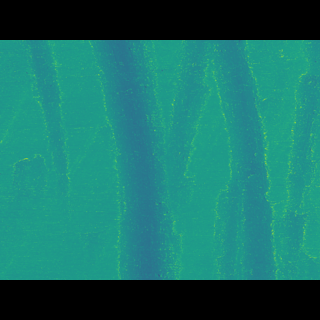Loch: (170, 69, 284, 250), (83, 69, 186, 249), (19, 68, 75, 186), (286, 68, 319, 250)
